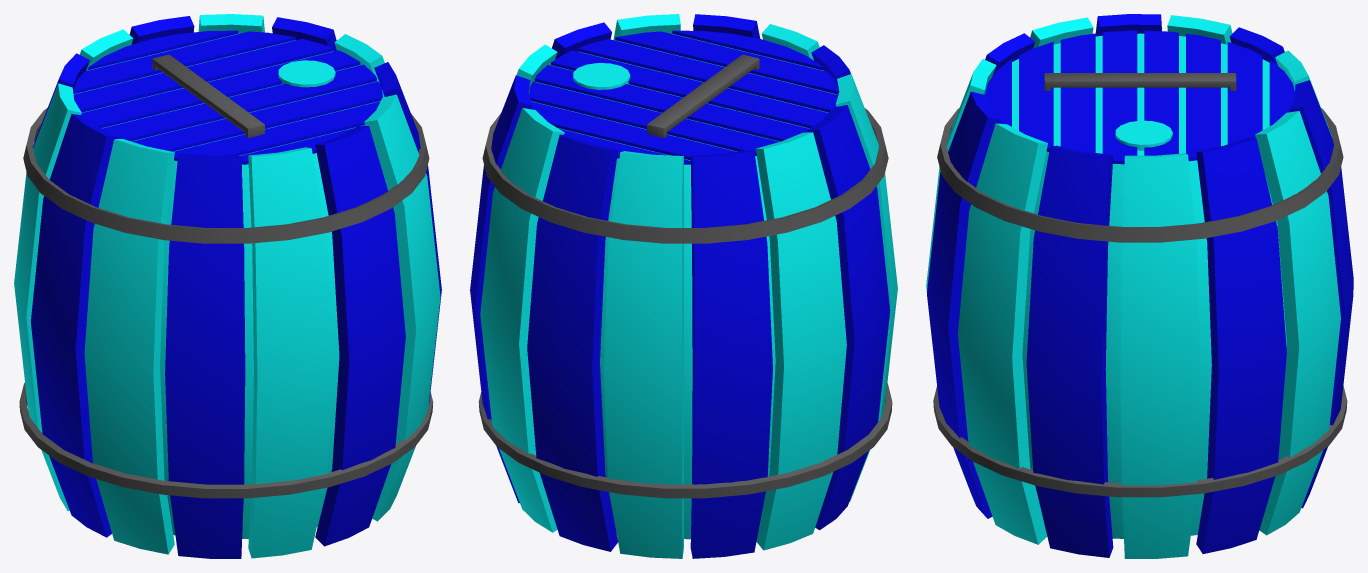
The model's file is Barrel2.fbx.
The picture shows the model from 3 angles, left to right: view 1: azimuth 30°, elevation 25°; view 2: azimuth 150°, elevation 25°; view 3: azimuth 270°, elevation 25°; orthographic projection.
Parts seen in each view (by area): view 1: Cylinder.004; view 2: Cylinder.004; view 3: Cylinder.004.
Boxes of the visible parts, x1,y1,x2,y2 form: Cylinder.004: (14,14,441,558); Cylinder.004: (470,14,897,558); Cylinder.004: (926,14,1353,558).
Bounding box in the file's own units: 275 × 285 × 275.
